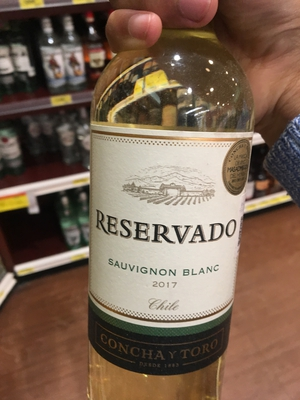reservado sauvignon blanc: (84, 36, 249, 400)
